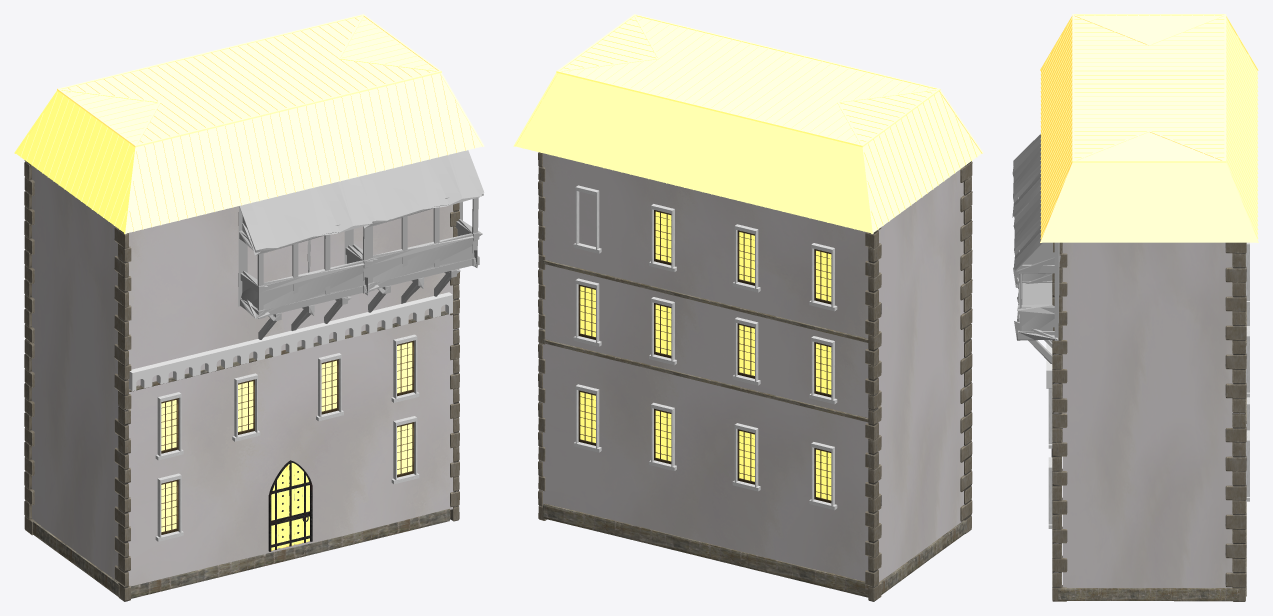
The model's file is Test Building 04 (Simple) .fbx.
The picture shows the model from 3 angles, left to right: view 1: azimuth 30°, elevation 25°; view 2: azimuth 150°, elevation 25°; view 3: azimuth 270°, elevation 25°; orthographic projection.
Visible parts, largest first — view 1: Cube__6_, TinRoof__1_, Cube__9_, SM_BalconyD_LOD1_1, SM_BalconyD_LOD1_2, SM_BalconyD_LOD2_1, SM_BalconyD_LOD2_2, SM_WoodenBar_1_4, SM_door_02_reinforced, SM_CastleLargeHouseAssambled_Cube_085_LOD0, SM_CastleLargeHouseAssambled_Cube_085_LOD1_1, SM_corbels_3 (+21 smaller); view 2: Cube__7_, TinRoof__1_, Cube__9_, SM_WoodenBar_1, SM_CastleLargeHouseAssambled_Cube_085_LOD0, SM_CastleLargeHouseAssambled_Cube_085_LOD1_4, SM_CastleLargeHouseAssambled_Cube_085_LOD1_5, SM_WoodenBar_1_1, SM_WoodenBar_1_2, SM_CastleLargeHouseAssambled_Cube_085_LOD1_1, SM_WoodenBar_1_6, SM_CastleLargeHouseAssambled_Cube_085_LOD0_4 (+15 smaller); view 3: Cube__8_, TinRoof__1_, SM_BalconyD_LOD1_2, SM_WoodenBar_1_7, SM_CastleLargeHouseAssambled_Cube_085_LOD1_6, SM_CastleLargeHouseAssambled_Cube_085_LOD1_7, SM_BalconyD_LOD2_2, SM_CastleLargeHouseAssambled_Cube_085_LOD1_2, SM_CastleLargeHouseAssambled_Cube_085_LOD0_6, SM_CastleLargeHouseAssambled_Cube_085_LOD0_7, SM_CastleLargeHouseAssambled_Cube_085_LOD1_3, SM_CastleLargeHouseAssambled_Cube_085_LOD0_2 (+5 smaller).
Boxes of the visible parts, <box> form: Cube__6_: <box>125,204,457,586</box>; TinRoof__1_: <box>14,14,484,234</box>; Cube__9_: <box>32,166,118,579</box>; SM_BalconyD_LOD1_1: <box>238,181,374,336</box>; SM_BalconyD_LOD1_2: <box>351,154,483,310</box>; SM_BalconyD_LOD2_1: <box>239,177,374,339</box>; SM_BalconyD_LOD2_2: <box>352,150,484,312</box>; SM_WoodenBar_1_4: <box>131,509,450,598</box>; SM_door_02_reinforced: <box>268,460,312,551</box>; SM_CastleLargeHouseAssambled_Cube_085_LOD0: <box>114,406,130,601</box>; SM_CastleLargeHouseAssambled_Cube_085_LOD1_1: <box>114,226,131,409</box>; SM_corbels_3: <box>128,355,196,391</box>; Cube__7_: <box>540,153,868,581</box>; TinRoof__1_: <box>513,14,983,233</box>; Cube__9_: <box>878,169,964,581</box>; SM_WoodenBar_1: <box>543,503,869,597</box>; SM_CastleLargeHouseAssambled_Cube_085_LOD0: <box>960,338,972,533</box>; SM_CastleLargeHouseAssambled_Cube_085_LOD1_4: <box>865,406,881,601</box>; SM_CastleLargeHouseAssambled_Cube_085_LOD1_5: <box>865,227,881,409</box>; SM_WoodenBar_1_1: <box>543,339,868,422</box>; SM_WoodenBar_1_2: <box>543,260,868,342</box>; SM_CastleLargeHouseAssambled_Cube_085_LOD1_1: <box>960,161,972,342</box>; SM_WoodenBar_1_6: <box>880,520,966,594</box>; SM_CastleLargeHouseAssambled_Cube_085_LOD0_4: <box>866,406,880,601</box>; Cube__8_: <box>1062,242,1238,587</box>; TinRoof__1_: <box>1040,14,1258,242</box>; SM_BalconyD_LOD1_2: <box>1013,191,1058,363</box>; SM_WoodenBar_1_7: <box>1058,588,1239,601</box>; SM_CastleLargeHouseAssambled_Cube_085_LOD1_6: <box>1225,412,1246,601</box>; SM_CastleLargeHouseAssambled_Cube_085_LOD1_7: <box>1225,242,1246,412</box>; SM_BalconyD_LOD2_2: <box>1014,202,1057,363</box>; SM_CastleLargeHouseAssambled_Cube_085_LOD1_2: <box>1052,412,1066,601</box>; SM_CastleLargeHouseAssambled_Cube_085_LOD0_6: <box>1225,413,1246,601</box>; SM_CastleLargeHouseAssambled_Cube_085_LOD0_7: <box>1225,243,1246,412</box>; SM_CastleLargeHouseAssambled_Cube_085_LOD1_3: <box>1052,243,1066,412</box>; SM_CastleLargeHouseAssambled_Cube_085_LOD0_2: <box>1052,412,1067,596</box>.
Size of what is drawn, in the model's own units: 1621 by 1911 by 975.
